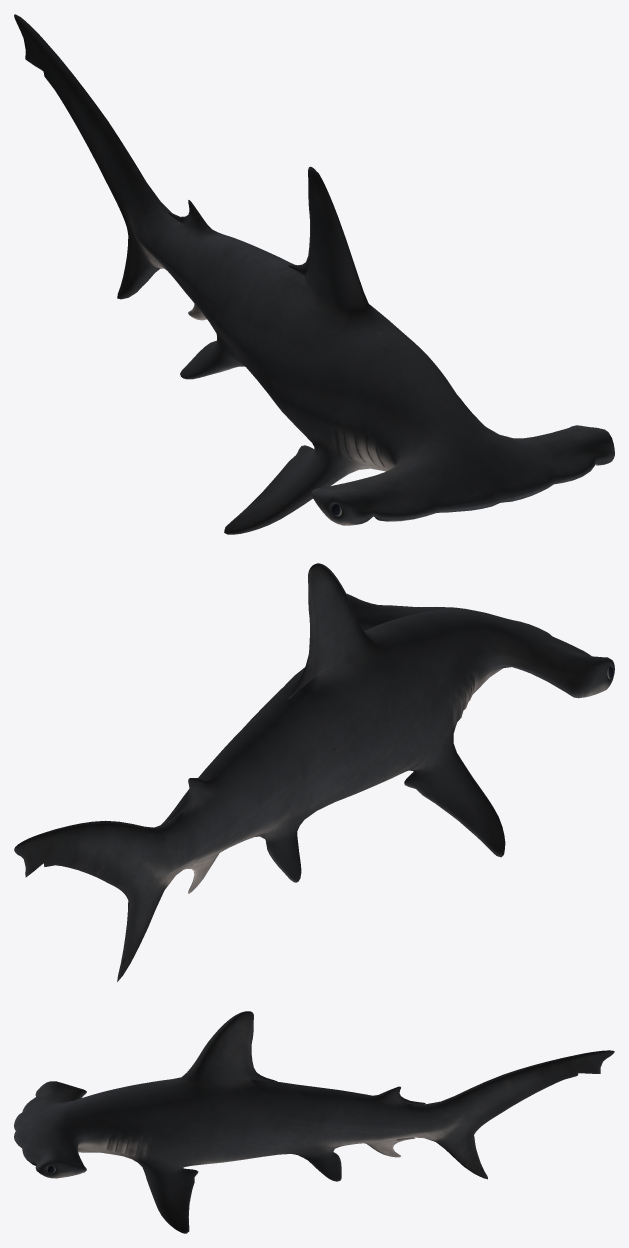
File: tiburonmartillo.glb
3 renders of one model, top to bottom at view 1: azimuth 30°, elevation 25°; view 2: azimuth 150°, elevation 25°; view 3: azimuth 270°, elevation 25°, orthographic. The views are drawn at different scales.
Parts seen in each view (by area): view 1: Node1; view 2: Node1; view 3: Node1.
Part boxes in pixels (<box>): Node1: <box>14,14,614,534</box>; Node1: <box>14,563,614,981</box>; Node1: <box>14,1011,614,1233</box>.
Bounding box in the file's own units: 1.38 × 1.39 × 4.19.
2 materials, 2 textured.
